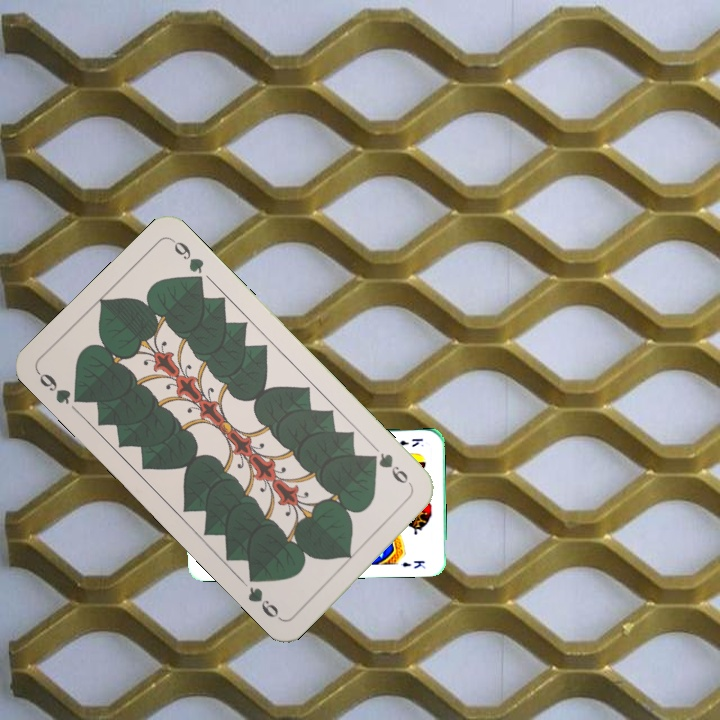EK: (396, 434, 426, 449)
G9: (365, 448, 416, 491), (33, 368, 87, 407)
